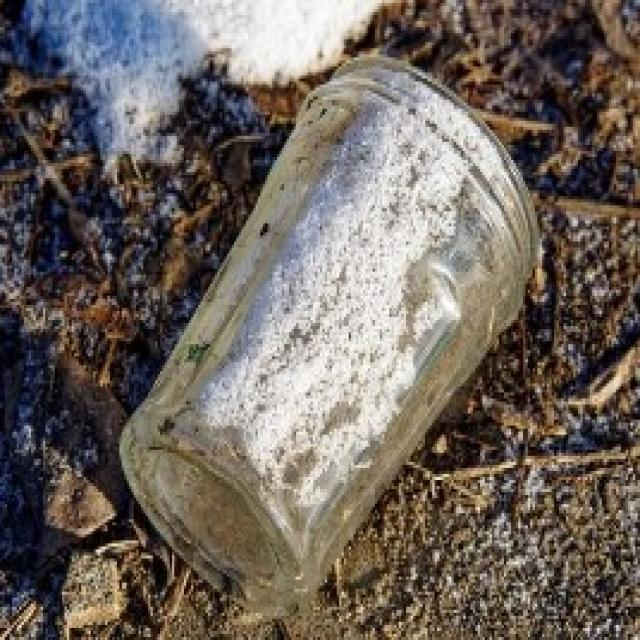electronic: (117, 48, 538, 610)
